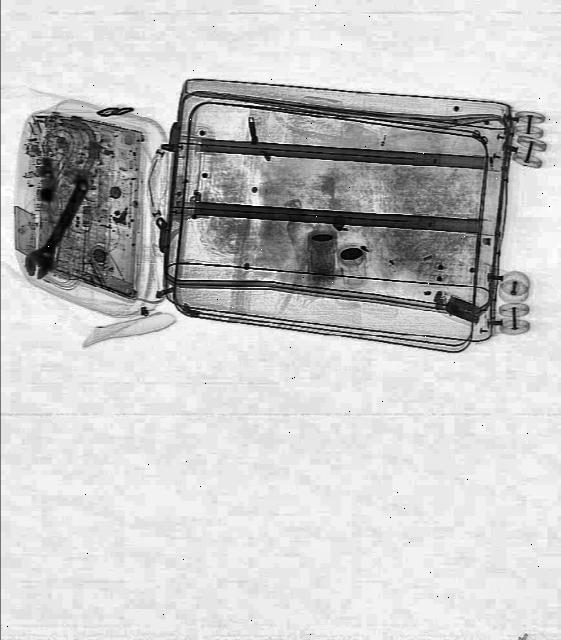Wrench: (18, 168, 100, 286)
